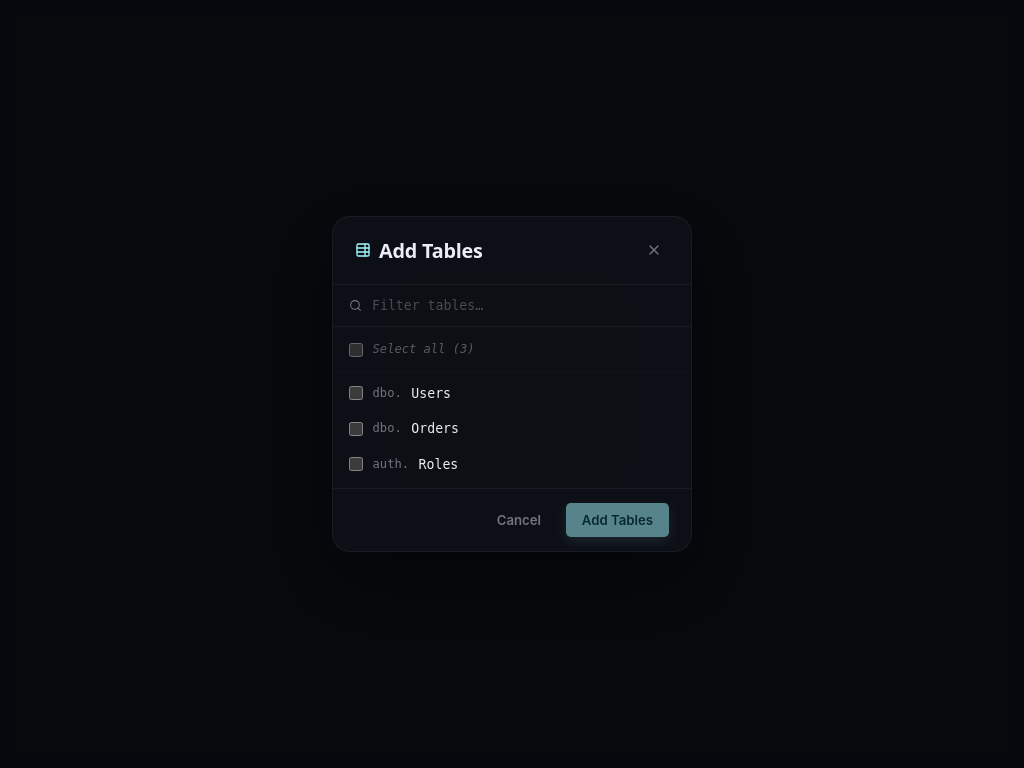
Scenario: AddTablesDialog › select all checkbox selects all visible filtered tables
Click the checkbox named "Select all filtered tables": (356,350) [349, 343, 363, 357]
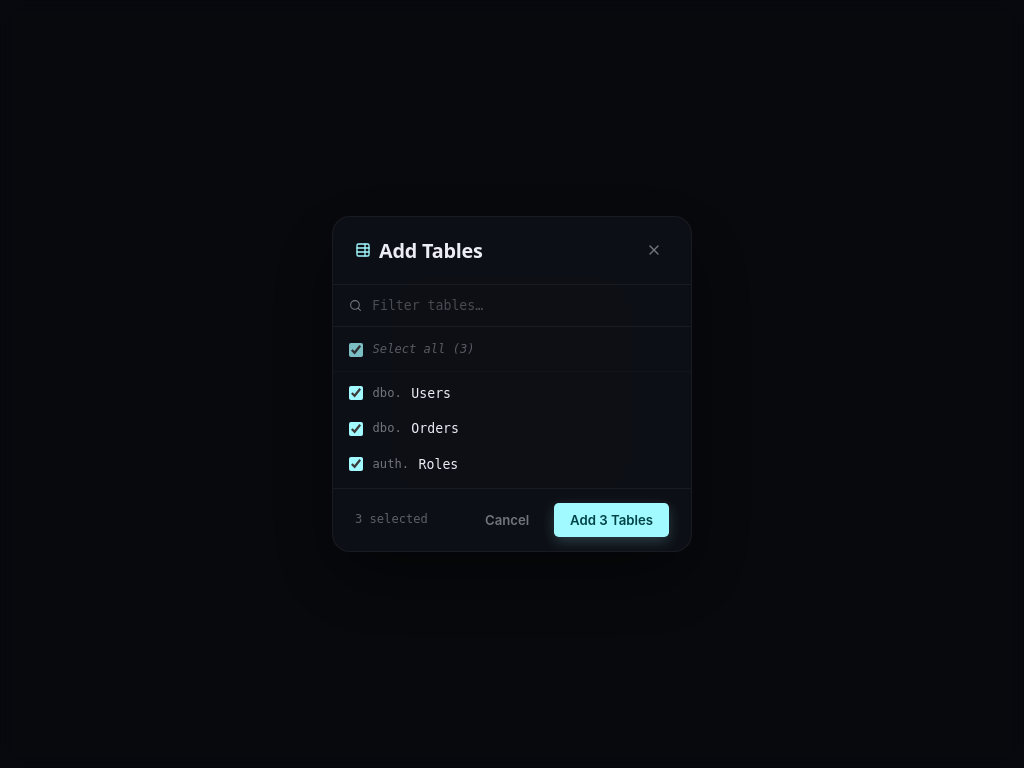
Check: the checkbox named "dbo.Users" is checked, box [349, 386, 363, 400]
Check: the checkbox named "dbo.Orders" is checked, box [349, 422, 363, 436]
Check: the checkbox named "auth.Roles" is checked, box [349, 458, 363, 472]
